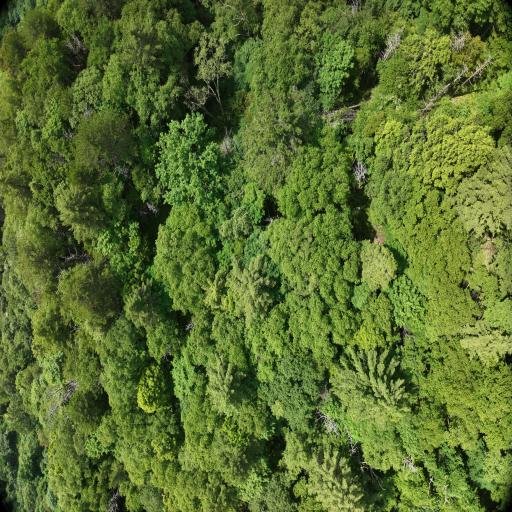dead-tree: (422, 61, 492, 111), (44, 380, 82, 415), (382, 28, 402, 65), (110, 158, 135, 184), (314, 413, 338, 438), (400, 452, 422, 479), (346, 424, 361, 463), (218, 129, 238, 158), (350, 159, 366, 191), (78, 101, 98, 125), (451, 28, 466, 54), (63, 250, 92, 262), (340, 0, 363, 15), (147, 197, 162, 220), (181, 319, 194, 332)
